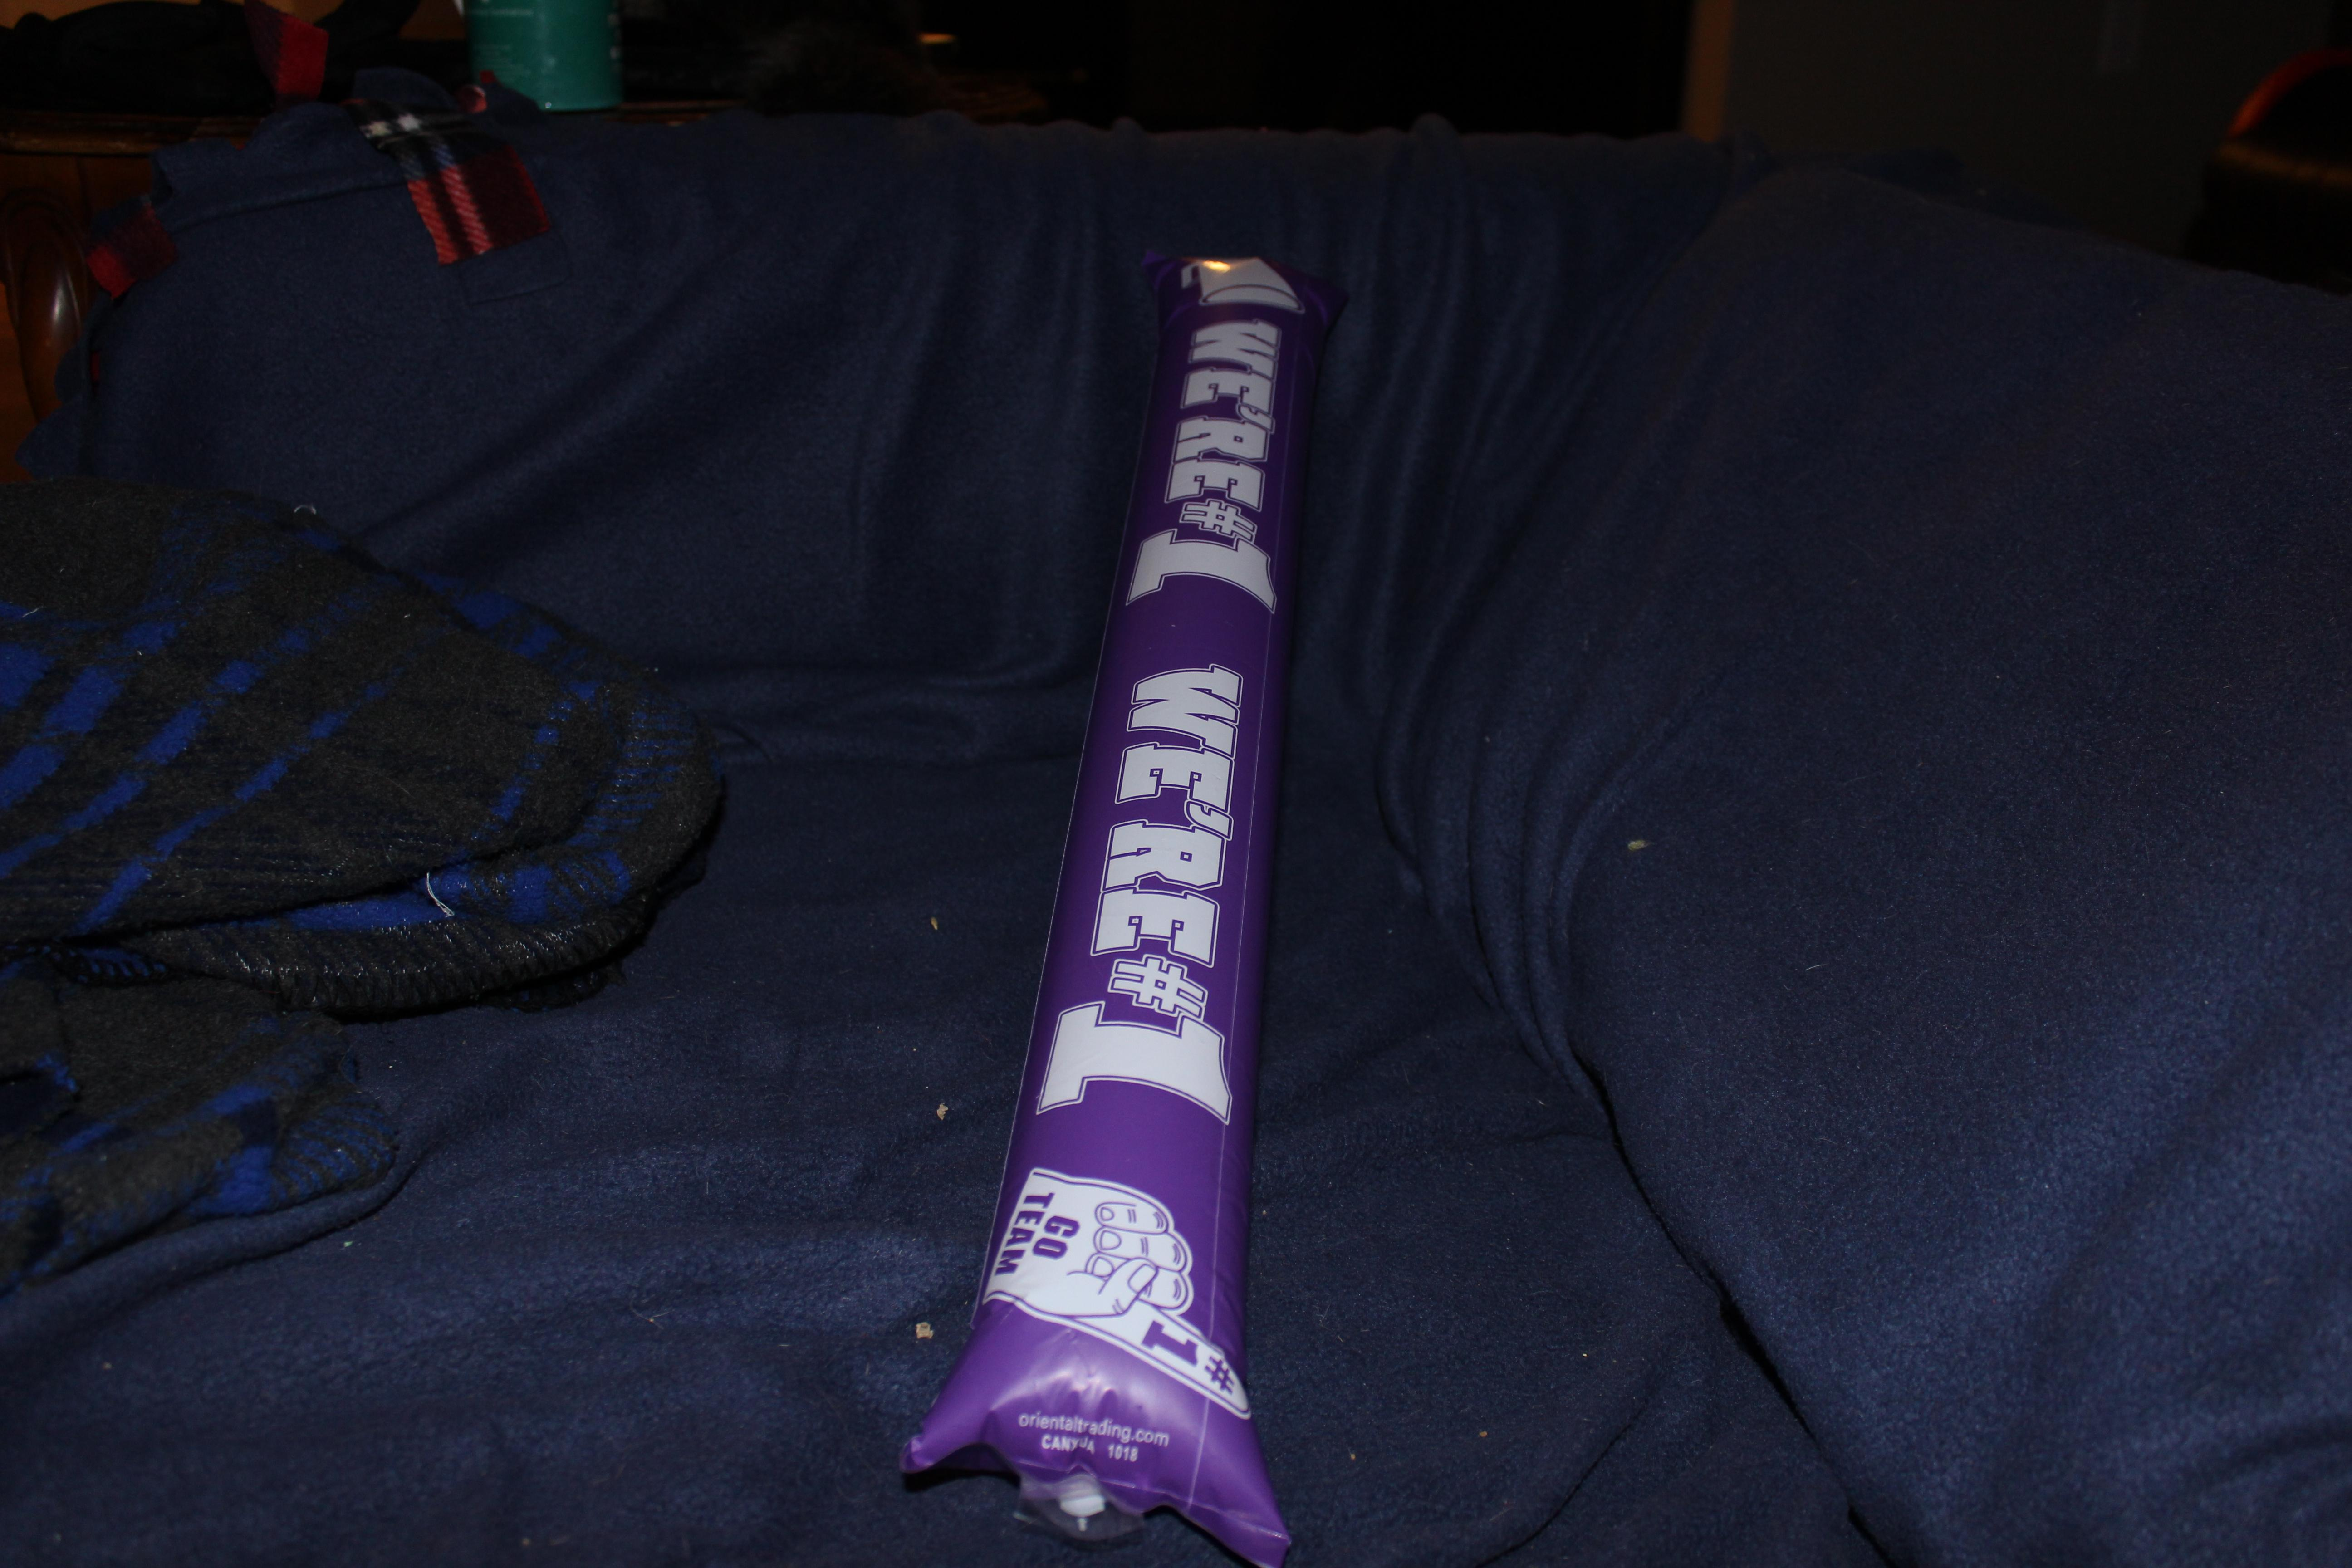noisemaker: (863, 226, 1353, 1559)
